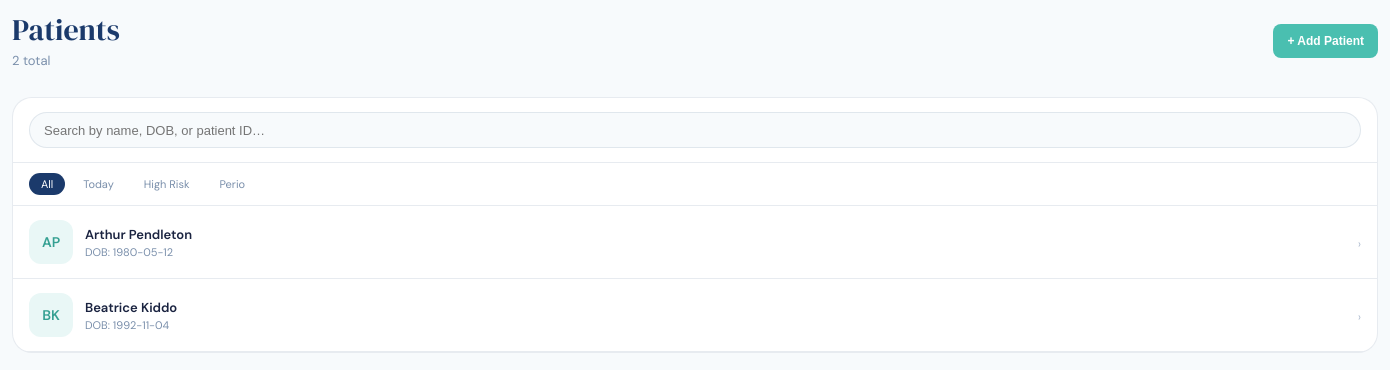
Scenario: 🔒 DentalScribeAI — Aggressive Frontend Unit Test Suite › 2. Patient Management & Validation Tests › should filter patient directory via search bar input
The width and height of the screenshot is (1390, 370).
Expected: the text "Arthur Pendleton" is shown, left=85, top=226, right=192, bottom=242
Expected: the text "Beatrice Kiddo" is shown, left=85, top=298, right=177, bottom=316
Type "Beatrice" into the field with placeholder "Search by name, DOB, or patient ID…" at [695, 130], box left=29, top=112, right=1361, bottom=148
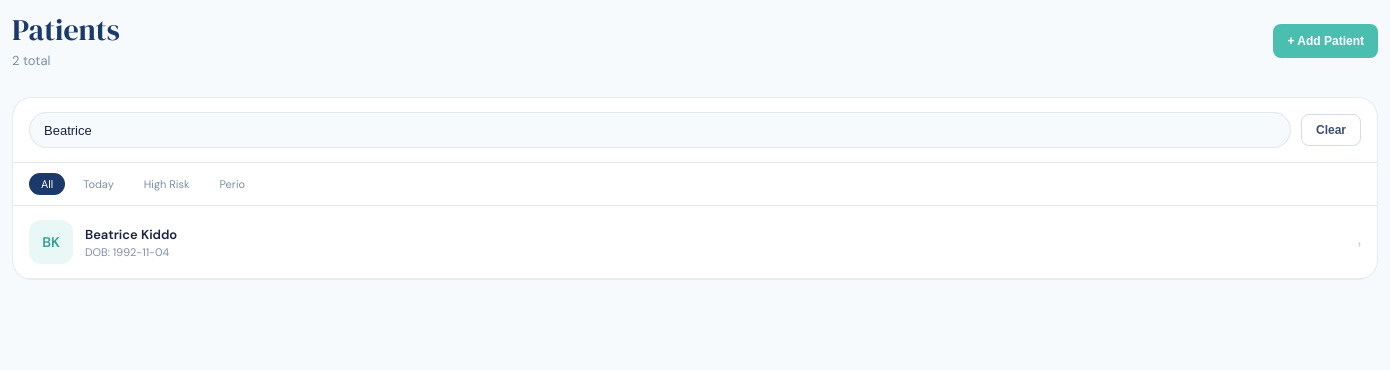
Expected: the text "Beatrice Kiddo" is shown, left=85, top=226, right=177, bottom=242
Expected: the text "Arthur Pendleton" is gone
